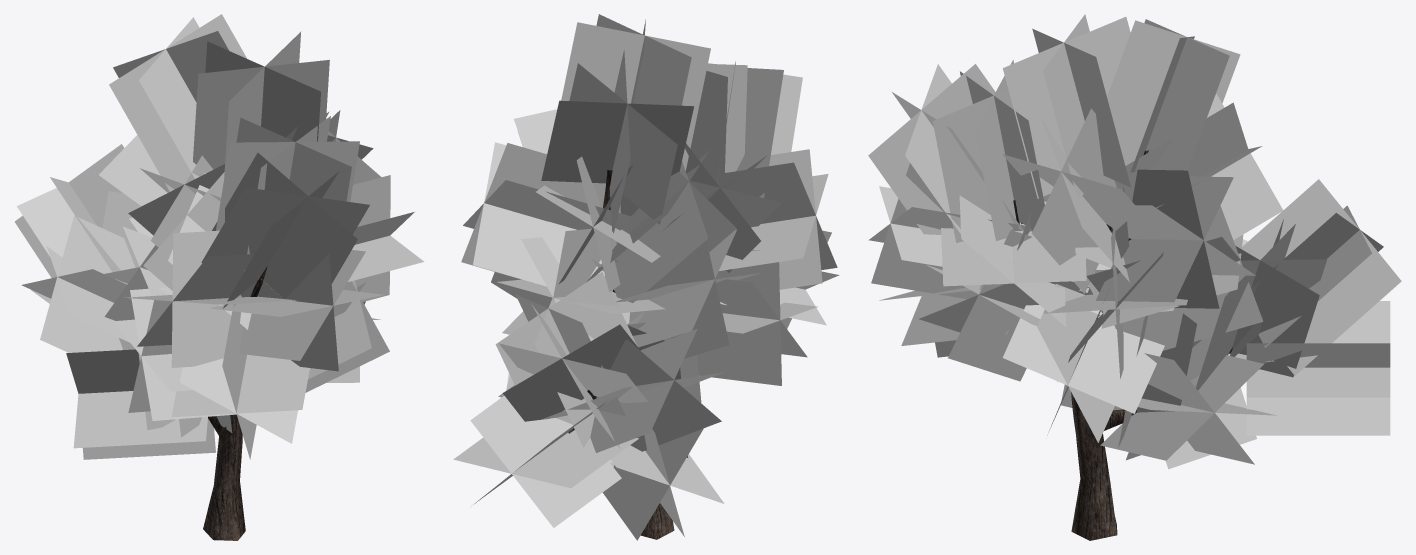
Rendered from comun02_unwrap.FBX.
3 views of the same model, side by side, from view 1: azimuth 30°, elevation 25°; view 2: azimuth 150°, elevation 25°; view 3: azimuth 270°, elevation 25° (orthographic). The views are drawn at different scales.
Parts seen in each view (by area): view 1: hojas arce, TRONCO; view 2: hojas arce, TRONCO; view 3: hojas arce, TRONCO.
Boxes of the visible parts, x1,y1,x2,y2 form: hojas arce: (14,14,424,459); TRONCO: (203,266,267,540); hojas arce: (453,14,839,540); TRONCO: (568,170,674,539); hojas arce: (868,14,1401,469); TRONCO: (1013,150,1232,540).
Bounding box in the file's own units: 133 × 220 × 206.
